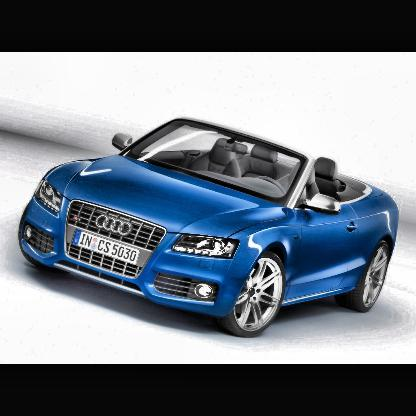Audi S5 Convertible 2012: (20, 119, 401, 339)
